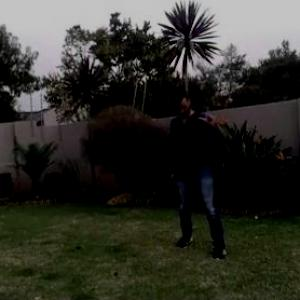land_hand: (200, 102, 218, 132)
